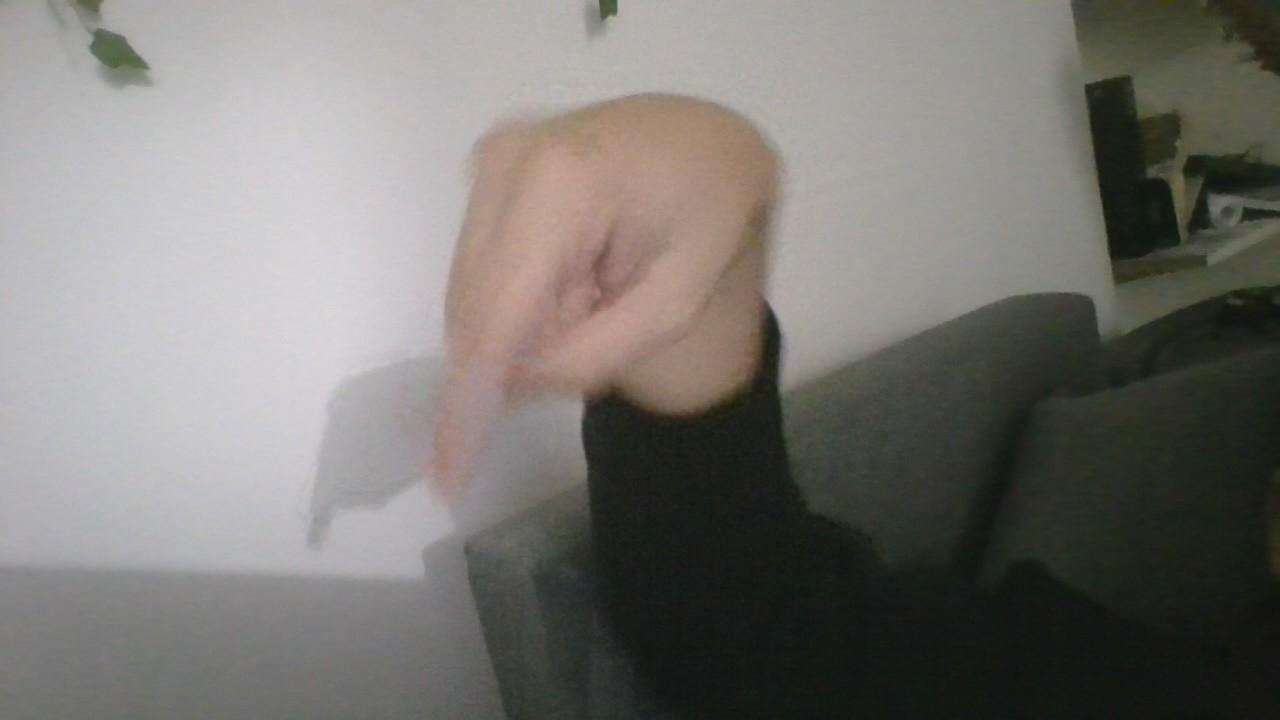down: (383, 52, 794, 521)
